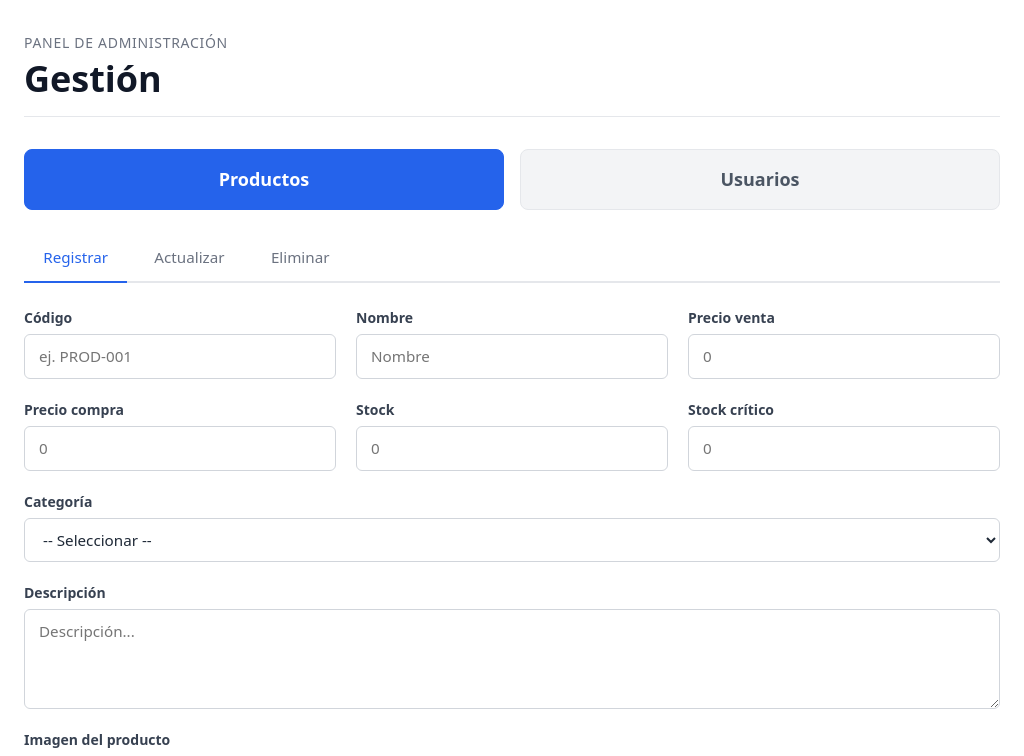
Test case: Administrador › cambia al tab de Eliminar producto y muestra la zona de peligro
The image size is (1024, 756).
What coordinates should you click on to do the following:
click the button "Eliminar"
I would click on:
 (300, 259)
Its box is [252, 234, 349, 283].
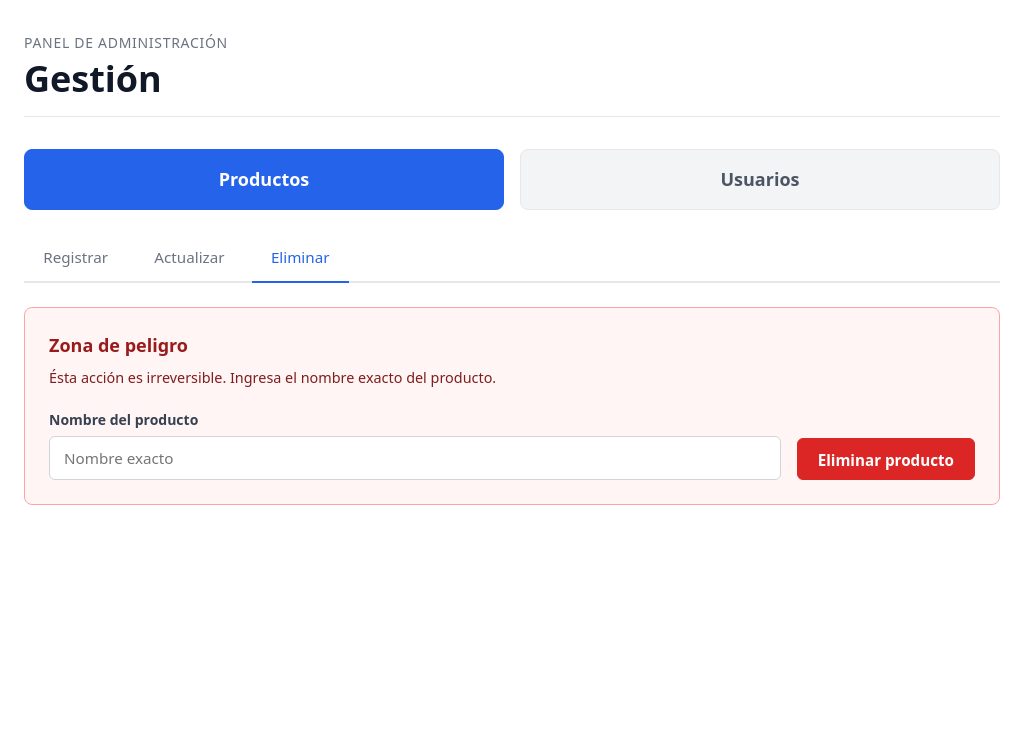
Now the text "Zona de peligro" is shown, box [49, 333, 188, 357]
Now the button "Eliminar producto" is shown, box [797, 438, 975, 480]
